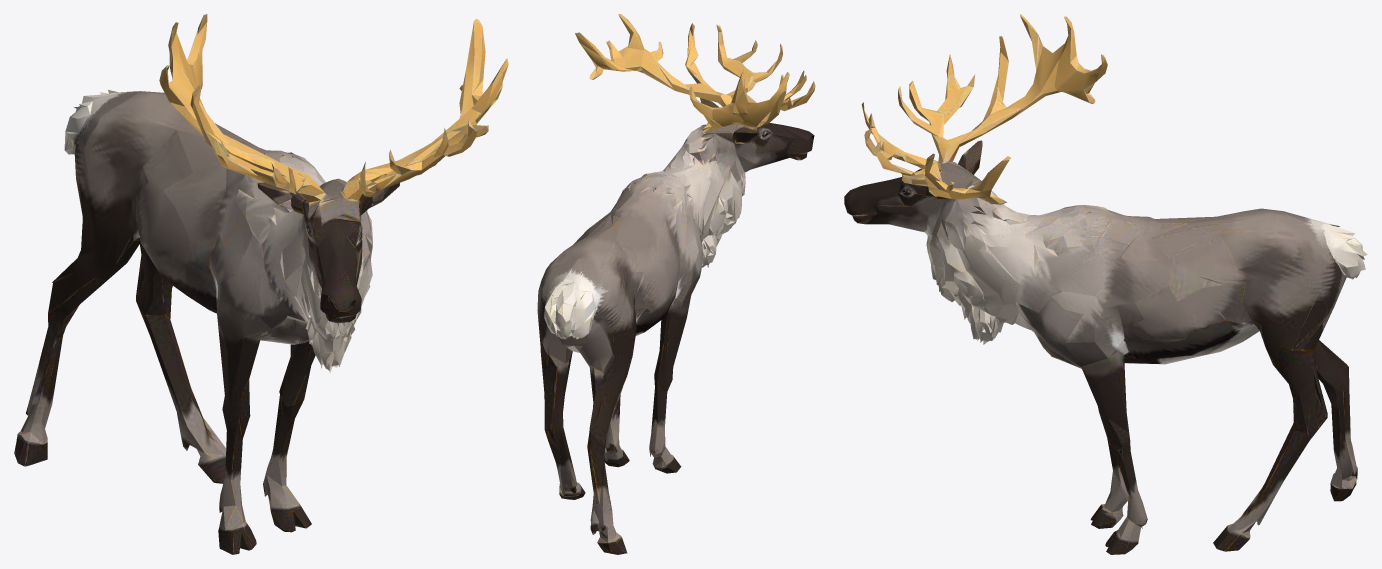
The model's file is reindeer.glb.
The picture shows the model from 3 angles, left to right: view 1: azimuth 30°, elevation 25°; view 2: azimuth 150°, elevation 25°; view 3: azimuth 270°, elevation 25°; orthographic projection. The views are drawn at different scales.
Bounding box in the file's own units: 1.08 × 1.89 × 1.9.
1 material, 1 textured.
